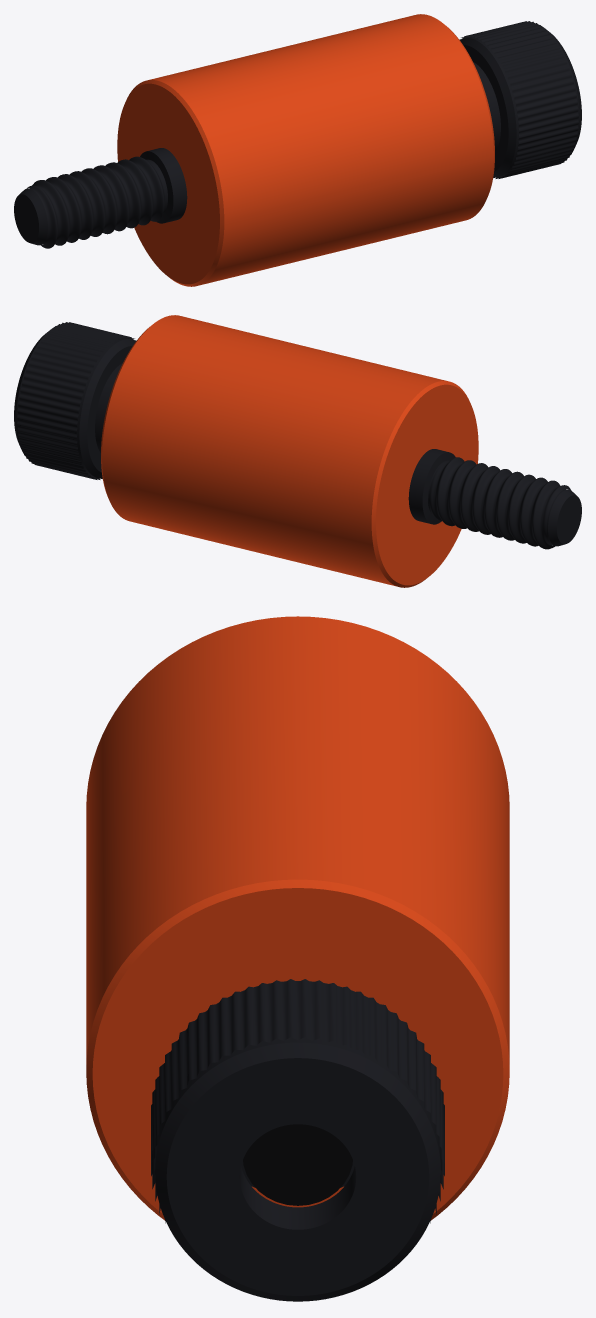
3 views of the same model, one above another, from view 1: azimuth 30°, elevation 25°; view 2: azimuth 150°, elevation 25°; view 3: azimuth 270°, elevation 25° (orthographic). The views are drawn at different scales.
Parts seen in each view (by area): view 1: parting-lock; view 2: parting-lock; view 3: parting-lock.
Part boxes in pixels (box(x1,y1,x2,y2)): parting-lock: box(14, 14, 581, 286); parting-lock: box(14, 315, 581, 587); parting-lock: box(86, 616, 509, 1301).
Bounding box in the file's own units: 2.28 × 0.8 × 0.8.
